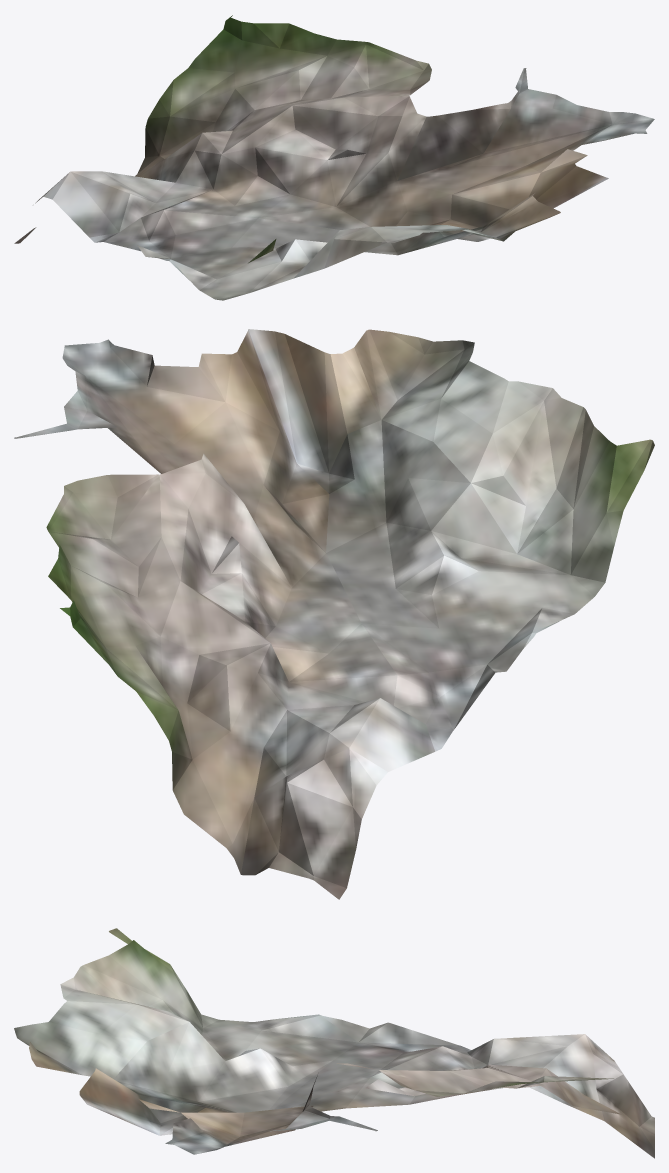
3 renders of one model, top to bottom at view 1: azimuth 30°, elevation 25°; view 2: azimuth 150°, elevation 25°; view 3: azimuth 270°, elevation 25°, orthographic. The views are drawn at different scales.
Bounding box in the file's own units: 12.36 × 4.85 × 14.77.
Materials: 1 (1 with a texture image).
